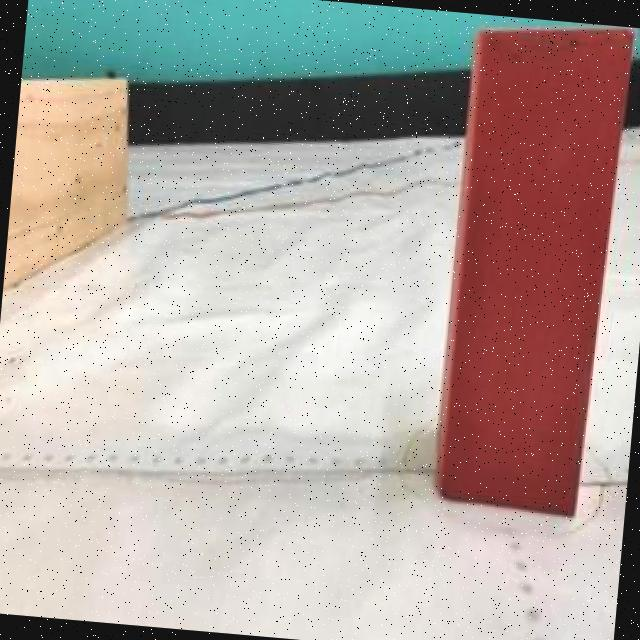redbox: (432, 12, 636, 522)
